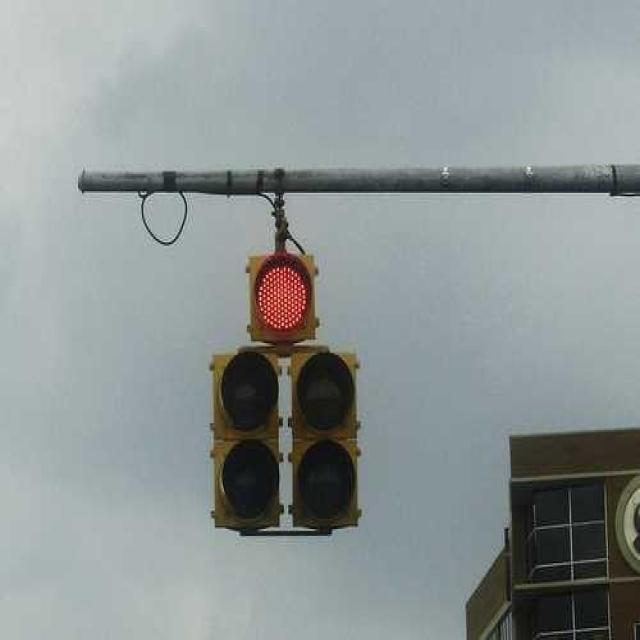Traffic Light -Red-: (207, 246, 362, 538)
